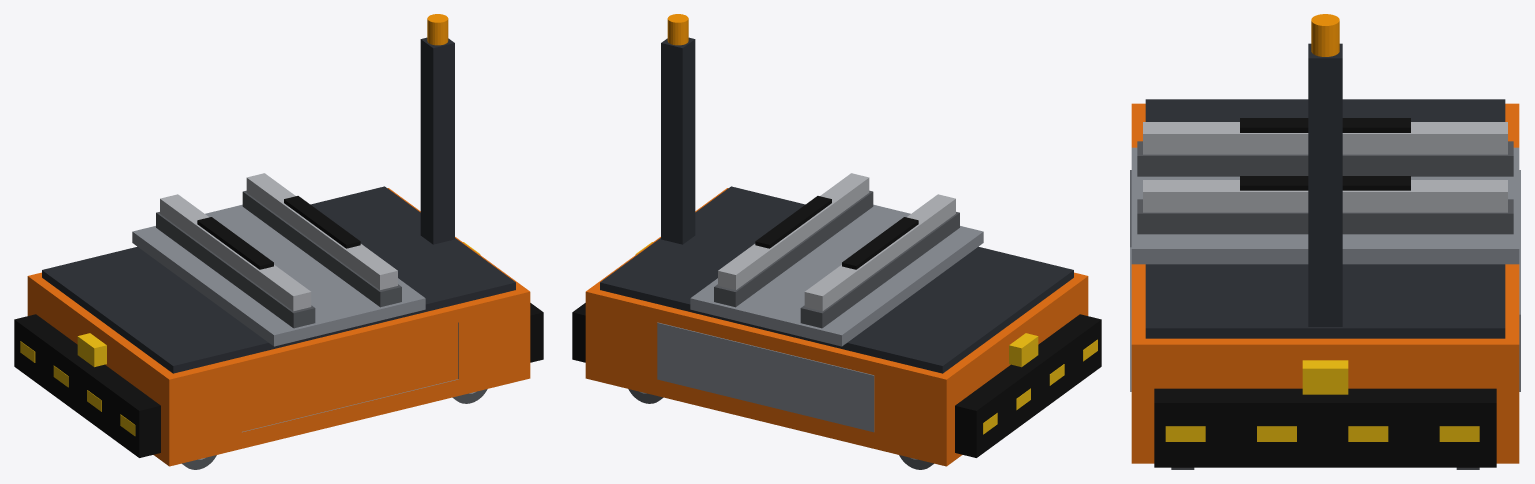
The model's file is transporter_shuttle.glb.
3 renders of one model, left to right at view 1: azimuth 30°, elevation 25°; view 2: azimuth 150°, elevation 25°; view 3: azimuth 270°, elevation 25°, orthographic. The views are drawn at different scales.
Visible parts, largest first — view 1: shuttle_body__orange, shuttle_body__dark, shuttle_body__grey, shuttle_body__rubber, shuttle_fork__steel, shuttle_fork__steel_dark, shuttle_fork__rubber, shuttle_body__yellow, shuttle_body__amber, shuttle_body__steel_dark; view 2: shuttle_body__dark, shuttle_body__orange, shuttle_body__grey, shuttle_body__rubber, shuttle_fork__steel, shuttle_fork__steel_dark, shuttle_fork__rubber, shuttle_body__yellow, shuttle_body__amber, shuttle_body__steel_dark; view 3: shuttle_body__dark, shuttle_body__orange, shuttle_body__rubber, shuttle_fork__steel, shuttle_fork__steel_dark, shuttle_body__grey, shuttle_body__yellow, shuttle_fork__rubber, shuttle_body__amber.
Part boxes in pixels (left/top/right/bottom): shuttle_body__orange: left=27, top=188, right=530, bottom=466; shuttle_body__dark: left=42, top=37, right=515, bottom=373; shuttle_body__grey: left=132, top=204, right=458, bottom=432; shuttle_body__rubber: left=14, top=303, right=543, bottom=457; shuttle_fork__steel: left=160, top=173, right=397, bottom=311; shuttle_fork__steel_dark: left=156, top=190, right=401, bottom=328; shuttle_fork__rubber: left=197, top=196, right=360, bottom=269; shuttle_body__yellow: left=20, top=242, right=480, bottom=435; shuttle_body__amber: left=427, top=14, right=448, bottom=45; shuttle_body__steel_dark: left=182, top=389, right=487, bottom=469; shuttle_body__dark: left=600, top=37, right=1073, bottom=373; shuttle_body__orange: left=585, top=188, right=1088, bottom=466; shuttle_body__grey: left=657, top=204, right=983, bottom=432; shuttle_body__rubber: left=572, top=303, right=1101, bottom=457; shuttle_fork__steel: left=718, top=173, right=955, bottom=311; shuttle_fork__steel_dark: left=714, top=190, right=959, bottom=328; shuttle_fork__rubber: left=755, top=196, right=918, bottom=269; shuttle_body__yellow: left=635, top=242, right=1097, bottom=434; shuttle_body__amber: left=667, top=14, right=688, bottom=45; shuttle_body__steel_dark: left=628, top=389, right=933, bottom=469; shuttle_body__dark: left=1145, top=43, right=1505, bottom=338; shuttle_body__orange: left=1131, top=103, right=1519, bottom=463; shuttle_body__rubber: left=1154, top=388, right=1496, bottom=467; shuttle_fork__steel: left=1143, top=122, right=1507, bottom=212; shuttle_fork__steel_dark: left=1137, top=141, right=1513, bottom=234; shuttle_body__grey: left=1130, top=147, right=1520, bottom=391; shuttle_body__yellow: left=1165, top=360, right=1479, bottom=441; shuttle_fork__rubber: left=1240, top=118, right=1410, bottom=190; shuttle_body__amber: left=1311, top=14, right=1339, bottom=56.
Bounding box in the file's own units: 2.24 × 1.79 × 1.37.
